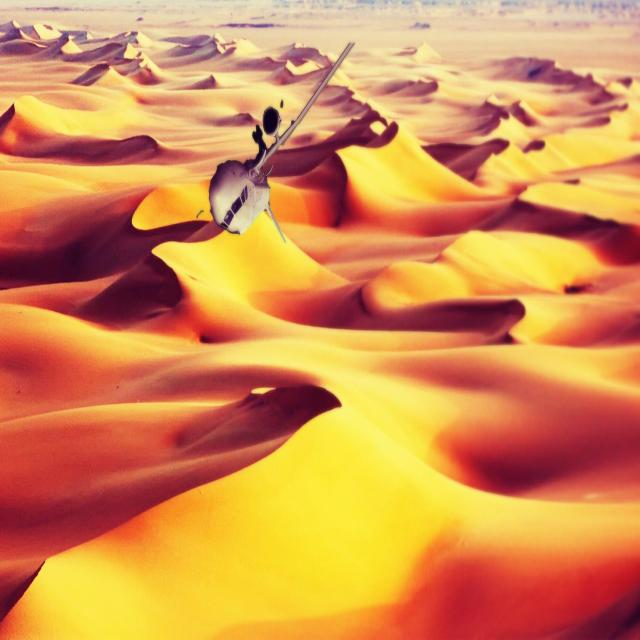airplane: (208, 43, 354, 244)
